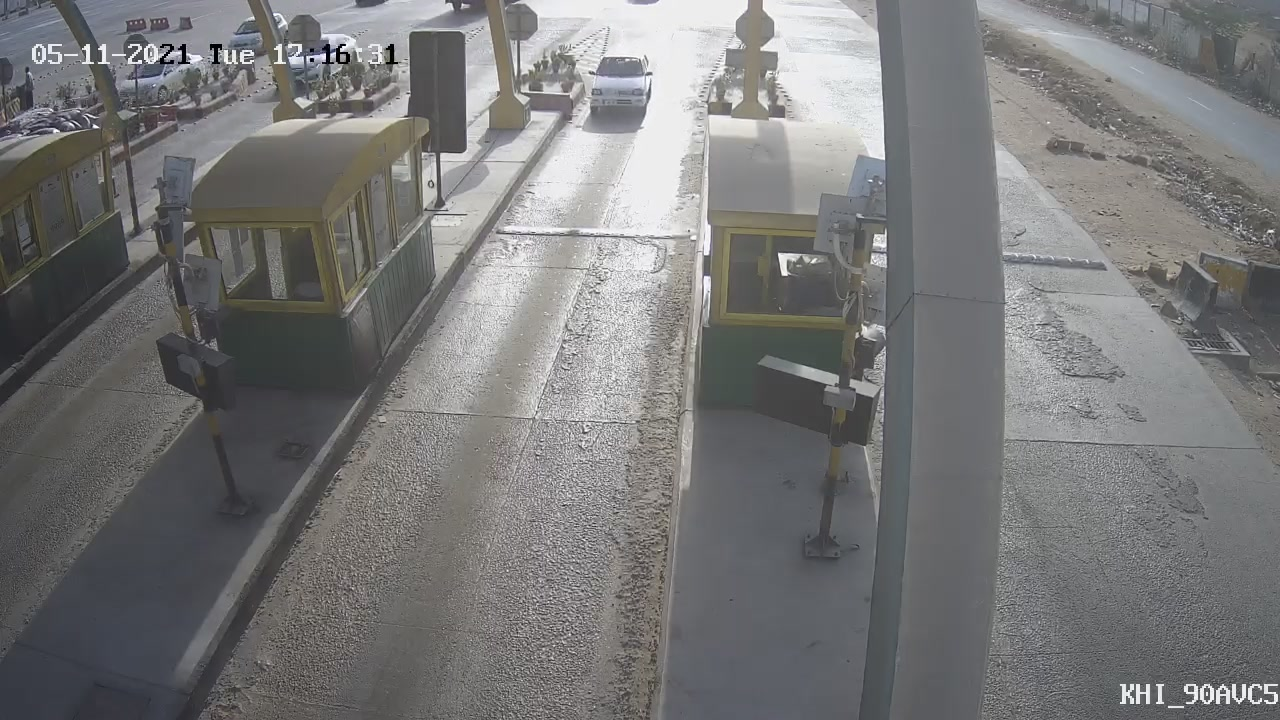F1: (573, 39, 665, 129)
